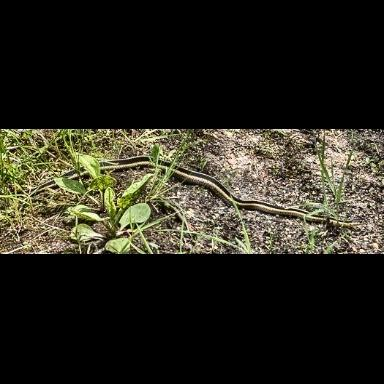snake: (99, 156, 363, 224), (62, 168, 93, 185)
